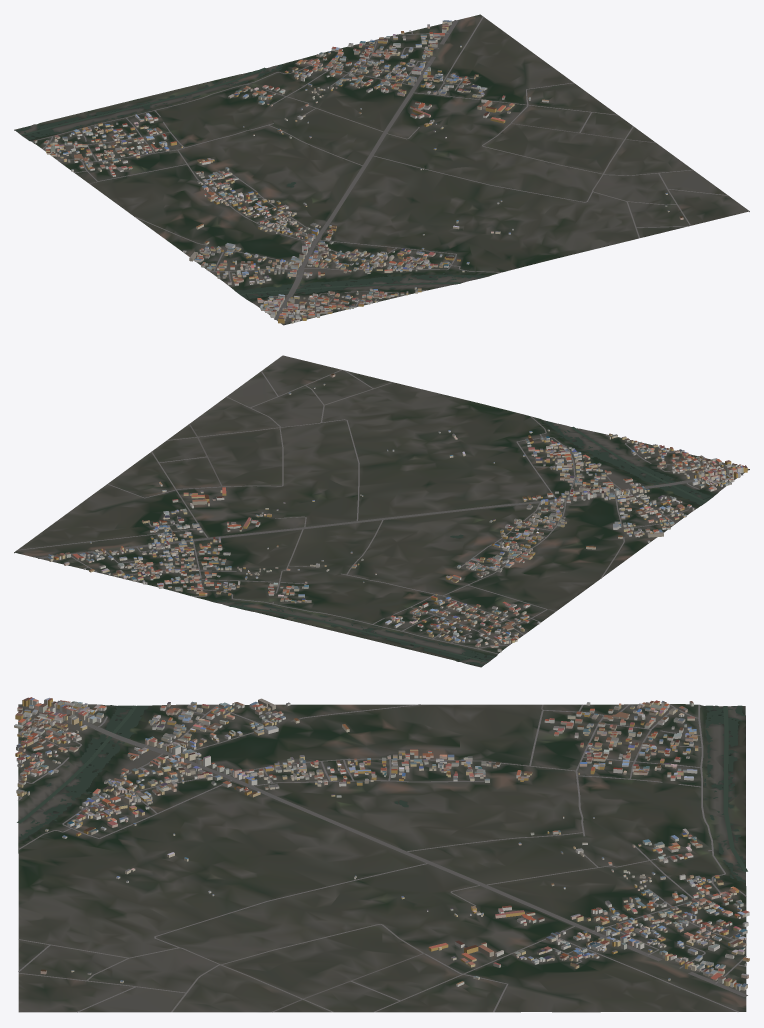
3 renders of one model, top to bottom at view 1: azimuth 30°, elevation 25°; view 2: azimuth 150°, elevation 25°; view 3: azimuth 270°, elevation 25°, orthographic. The views are drawn at different scales.
Visible parts, largest first — view 1: ground, buildings, roads, water; view 2: ground, buildings, roads, water; view 3: ground, buildings, roads, water.
Part boxes in pixels (x1,y1,x2,y2): ground: (14,14,749,325); buildings: (33,20,683,323); roads: (31,16,728,319); water: (16,64,485,300); ground: (14,355,749,667); buildings: (47,373,747,652); roads: (17,369,742,654); water: (212,421,715,666); ground: (18,704,746,1012); buildings: (14,697,749,991); roads: (18,703,747,1012); water: (17,705,747,882).
Bounding box in the file's own units: 1417 × 23.66 × 1418.
